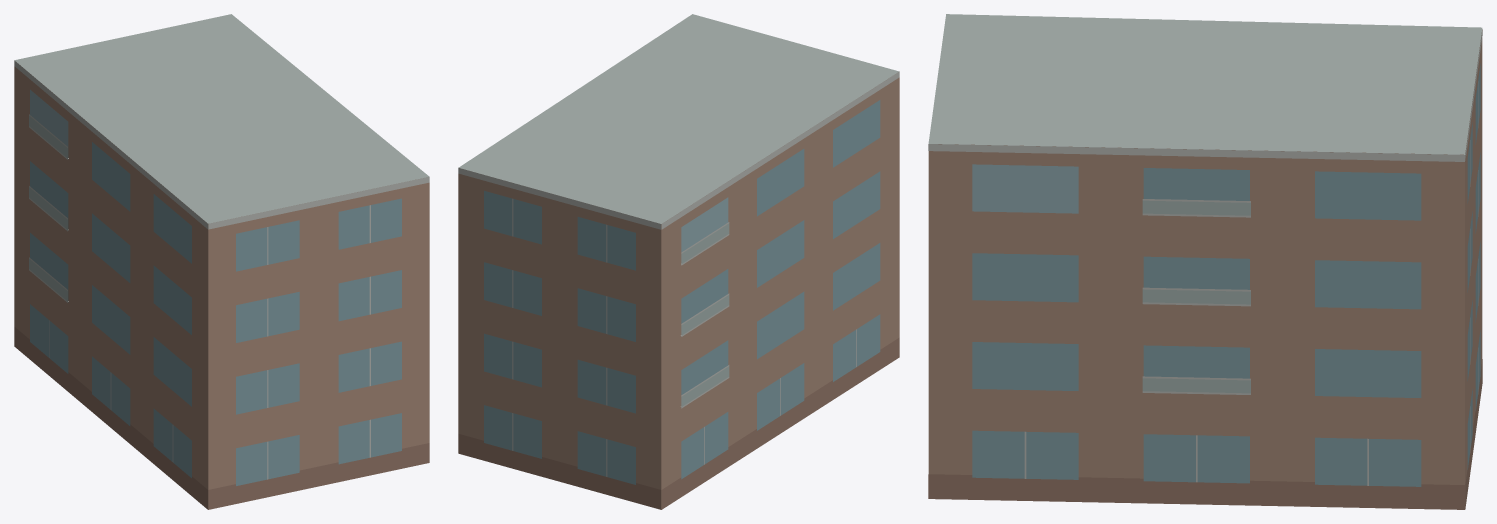
The model's file is survey-upis-32894119.glb.
The picture shows the model from 3 angles, left to right: view 1: azimuth 30°, elevation 25°; view 2: azimuth 150°, elevation 25°; view 3: azimuth 270°, elevation 25°; orthographic projection. The views are drawn at different scales.
Visible parts, largest first — view 1: survey-upis-32894119.tmp; view 2: survey-upis-32894119.tmp; view 3: survey-upis-32894119.tmp.
Boxes of the visible parts, x1=… form: survey-upis-32894119.tmp: x1=14, y1=14, x2=429, y2=509; survey-upis-32894119.tmp: x1=458, y1=14, x2=899, y2=509; survey-upis-32894119.tmp: x1=928, y1=14, x2=1482, y2=509.
Bounding box in the file's own units: 10.21 × 12 × 16.98.
